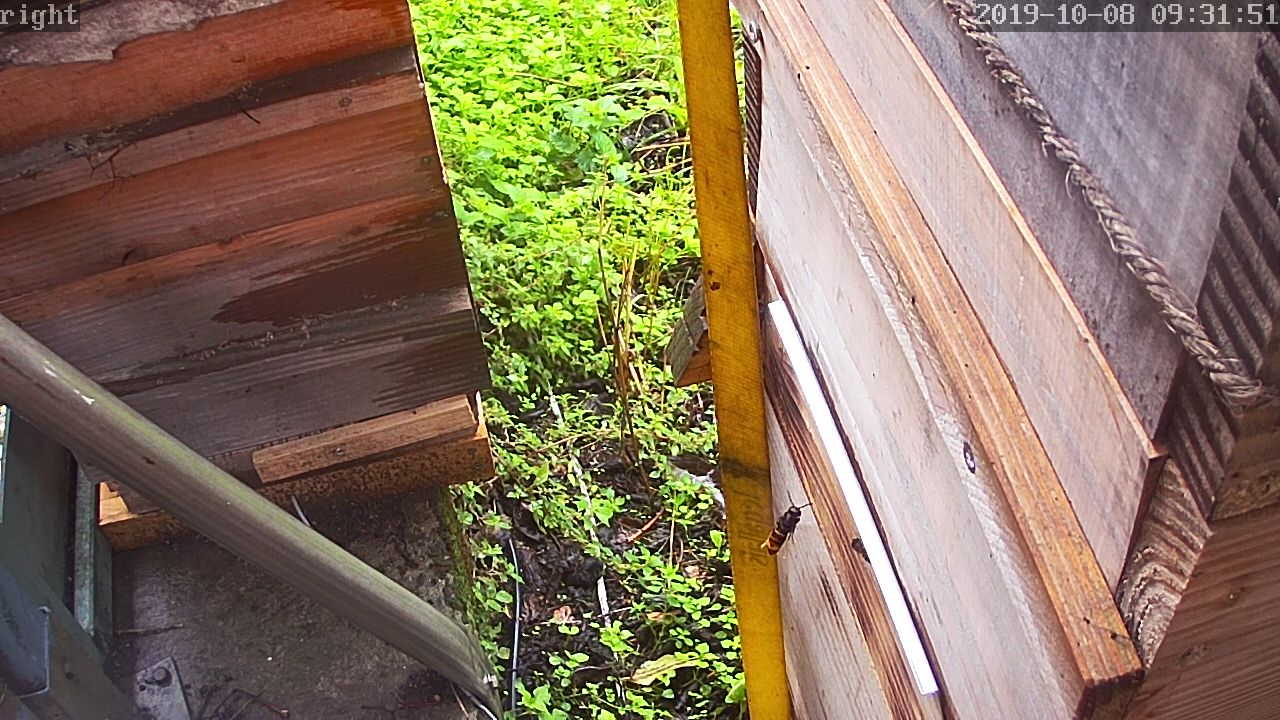bee: (851, 531, 871, 565)
hornet: (760, 502, 816, 561)
